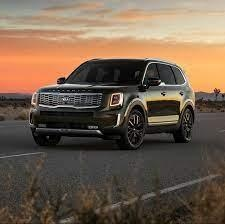car: (23, 40, 205, 156)
